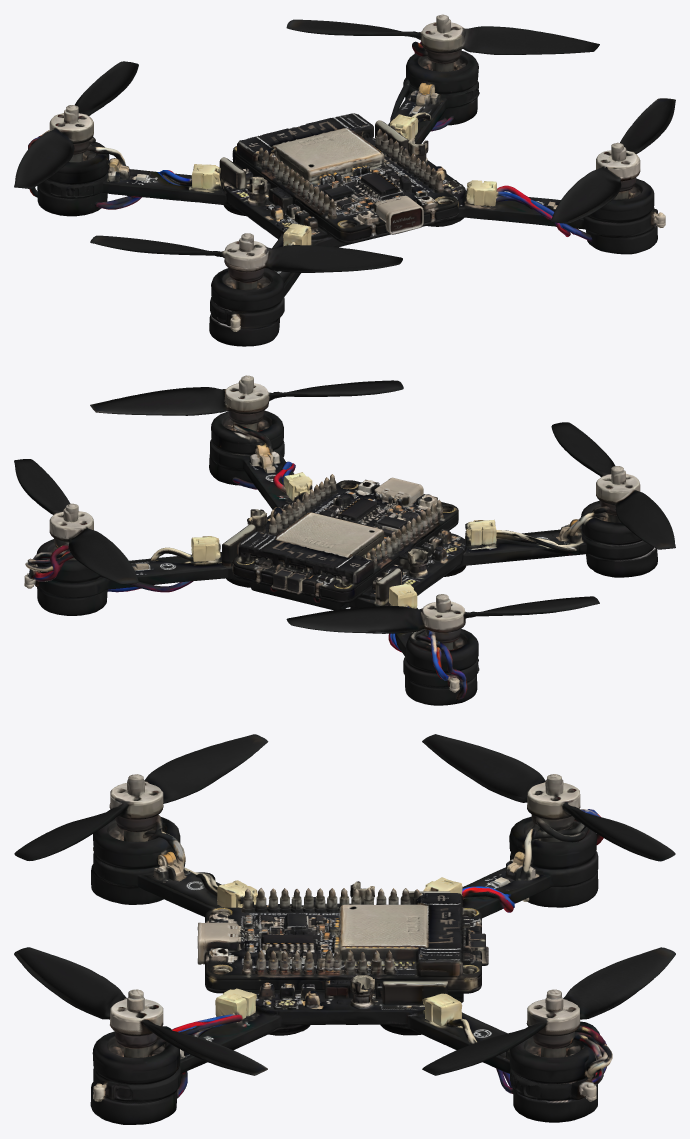
The model's file is esp32_drone_3d_model.viewer.glb.
3 views of the same model, one above another, from view 1: azimuth 30°, elevation 25°; view 2: azimuth 150°, elevation 25°; view 3: azimuth 270°, elevation 25° (orthographic). The views are drawn at different scales.
Size of the model in its own units: 0.9867 by 0.1638 by 0.8086.
Materials: 1 (1 with a texture image).
